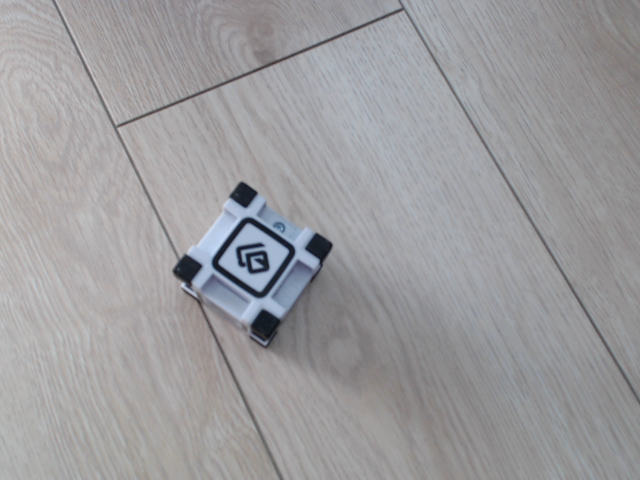block: (170, 178, 337, 352)
